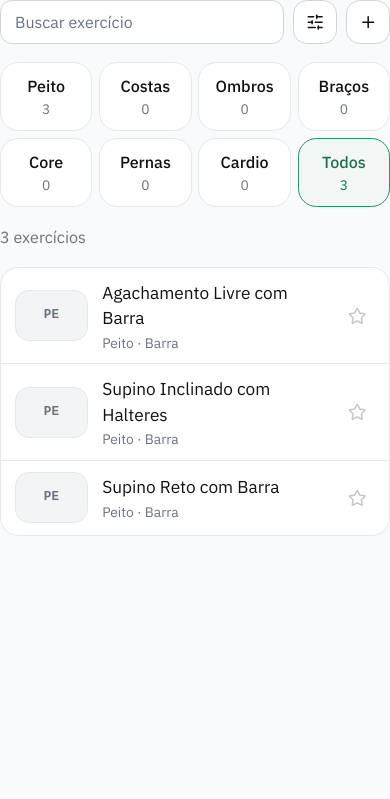
Test: creating from a search that found something › opens the form
Check: the text "Supino Reto com Barra" is shown, box [102,475,280,498]
In the search field labelled "Buscar exercício": point(142, 22) [0,0,284,44], type "supino"
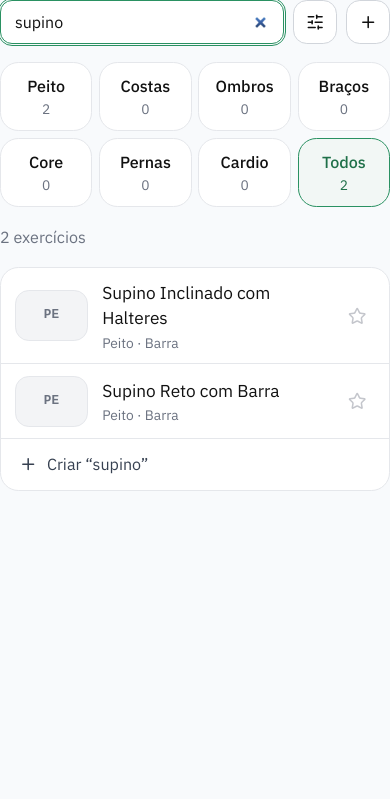
Click the button "Criar “supino”": point(70, 463) [1,439,389,490]
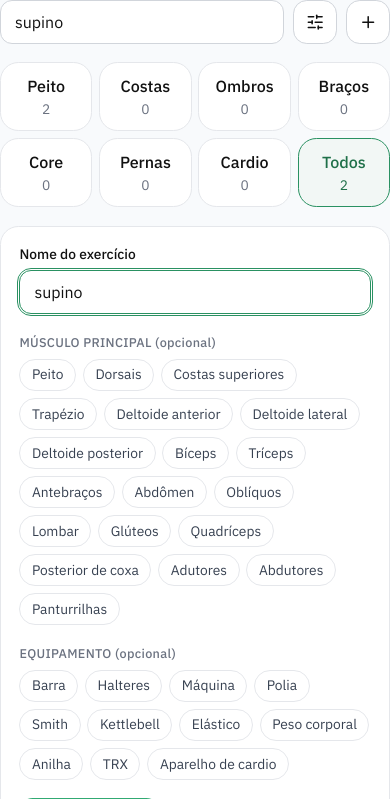
Check: the field labelled "Nome do exercício" is shown, box [19,270,371,314]
